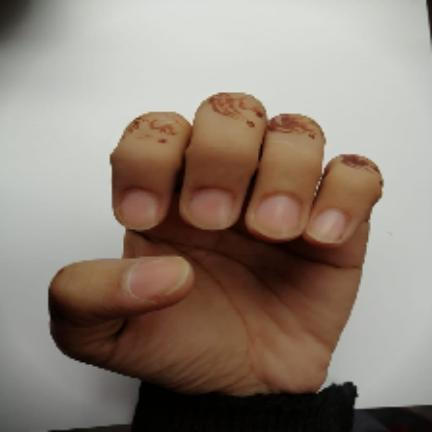Nail: (126, 256, 189, 298), (253, 197, 298, 238), (187, 189, 231, 229), (119, 190, 159, 229), (308, 209, 346, 243)
